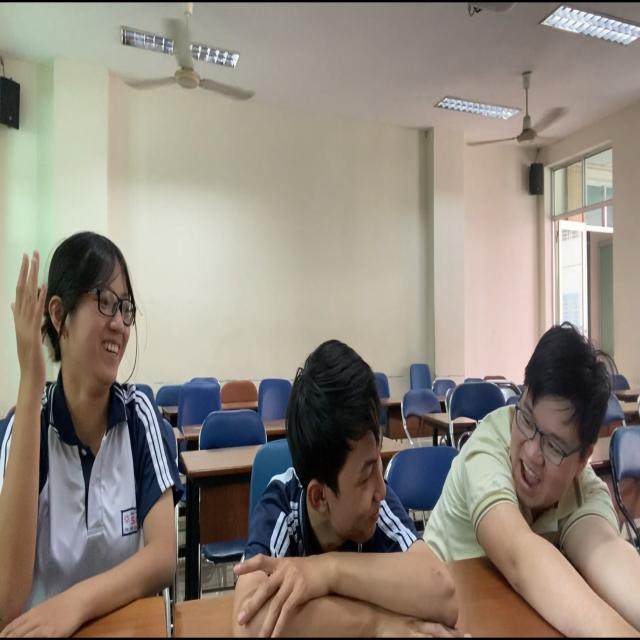raise_hand: (1, 181, 212, 640)
